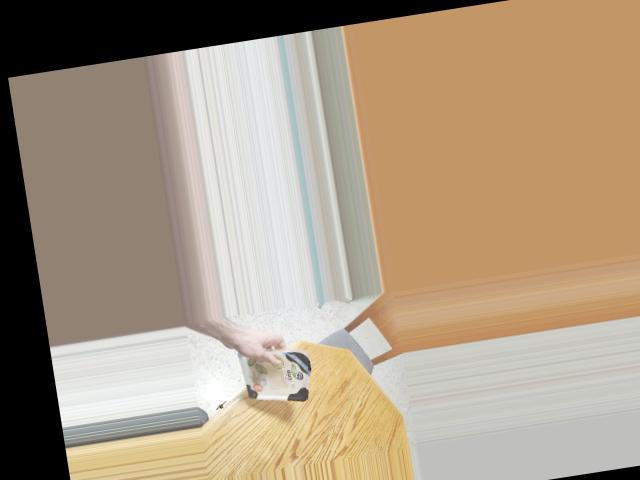cheese: (229, 343, 319, 405)
